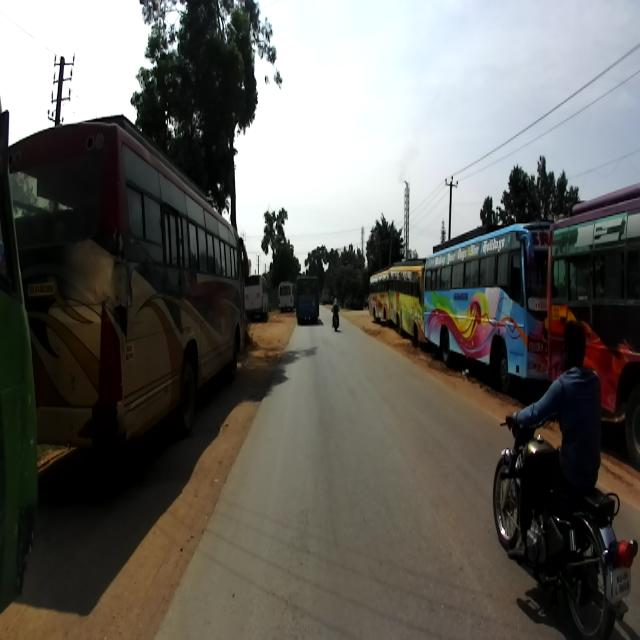bus ahead at: (20, 108, 256, 442)
motorcycle ahead at: (497, 476, 638, 634)
